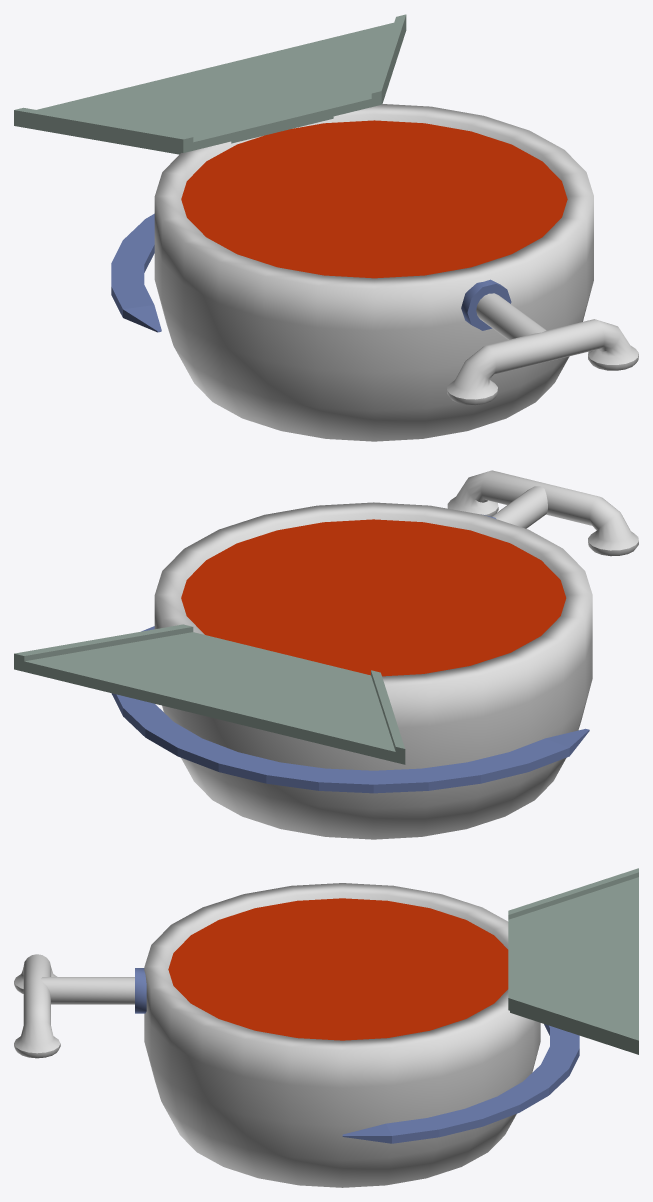
The model's file is Bowl.fbx.
The picture shows the model from 3 angles, top to bottom: view 1: azimuth 30°, elevation 25°; view 2: azimuth 150°, elevation 25°; view 3: azimuth 270°, elevation 25°; orthographic projection. The views are drawn at different scales.
Visible parts, largest first — view 1: Tube, tomato, receiver, crane, shelf, Cylinder; view 2: Tube, tomato, receiver, shelf, crane; view 3: Tube, tomato, receiver, shelf, crane, Cylinder.
Boxes of the visible parts, x1,y1,x2,y2 form: Tube: (154, 104, 593, 441); tomato: (181, 120, 567, 278); receiver: (14, 14, 406, 154); crane: (447, 293, 638, 405); shelf: (111, 213, 161, 332); Cylinder: (461, 279, 511, 330); Tube: (154, 502, 592, 839); tomato: (181, 519, 566, 676); receiver: (14, 624, 405, 764); shelf: (111, 626, 589, 793); crane: (447, 470, 638, 556); Tube: (144, 883, 540, 1187); tomato: (168, 898, 508, 1040); receiver: (508, 868, 638, 1054); shelf: (342, 1024, 579, 1143); crane: (14, 954, 134, 1058); Cylinder: (135, 968, 146, 1013).
Size of the model in its own units: 407 by 156 by 545.
